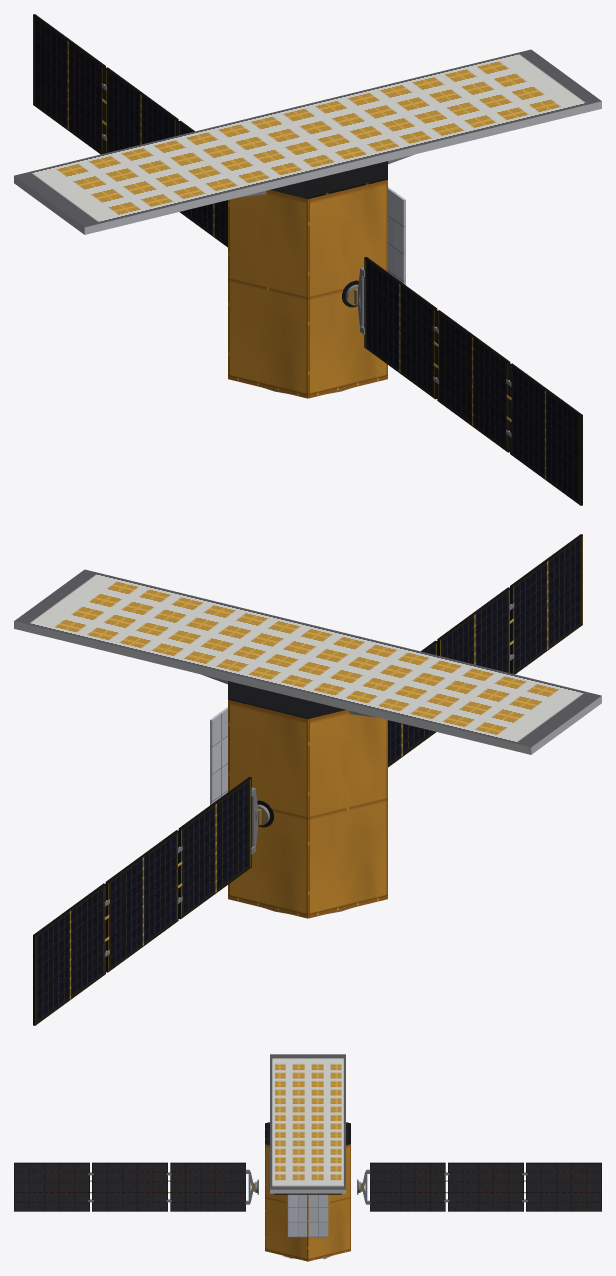
Rendered from cosmo-skymed.glb.
The picture shows the model from 3 angles, top to bottom: view 1: azimuth 30°, elevation 25°; view 2: azimuth 150°, elevation 25°; view 3: azimuth 270°, elevation 25°; orthographic projection. The views are drawn at different scales.
Parts seen in each view (by area): view 1: bus, wing-Y, wing+Y; view 2: bus, wing+Y, wing-Y; view 3: bus, wing+Y, wing-Y.
Part boxes in pixels (<box>): bus: <box>14,49,601,398</box>; wing-Y: <box>354,257,582,505</box>; wing+Y: <box>33,14,227,247</box>; bus: <box>14,569,601,918</box>; wing+Y: <box>33,777,261,1025</box>; wing-Y: <box>388,534,582,767</box>; bus: <box>265,1054,350,1261</box>; wing+Y: <box>360,1162,601,1211</box>; wing-Y: <box>14,1162,255,1211</box>.
Size of the model in its own units: 5.7 by 2.53 by 10.46.
15 materials, 6 textured.
